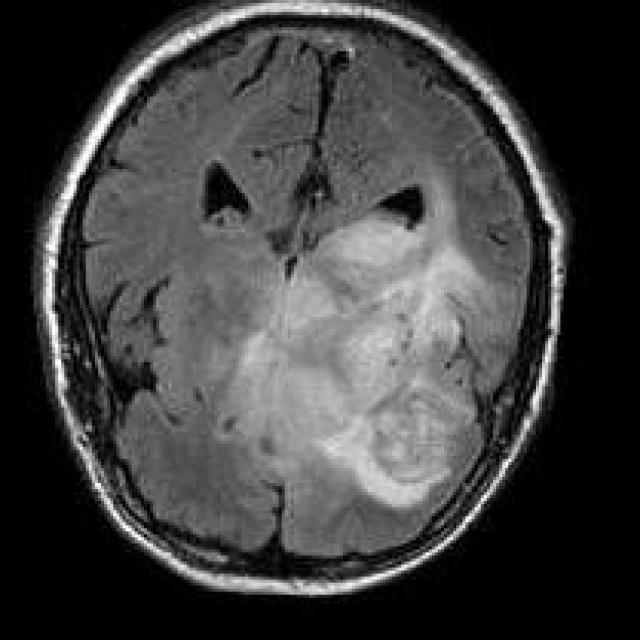brain tumor: (220, 217, 484, 510)
